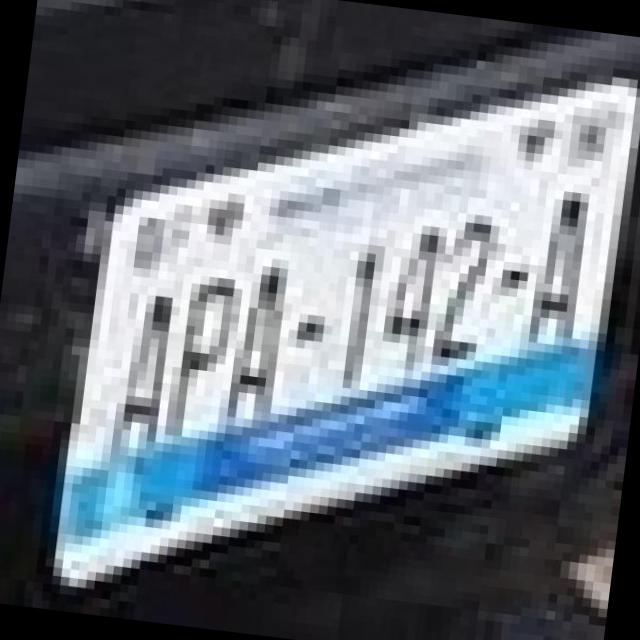1: (309, 214, 388, 382)
2: (415, 184, 504, 361)
4: (364, 194, 442, 354)
A: (210, 228, 292, 422), (503, 160, 592, 338), (94, 264, 176, 450)
P: (148, 246, 238, 432)
